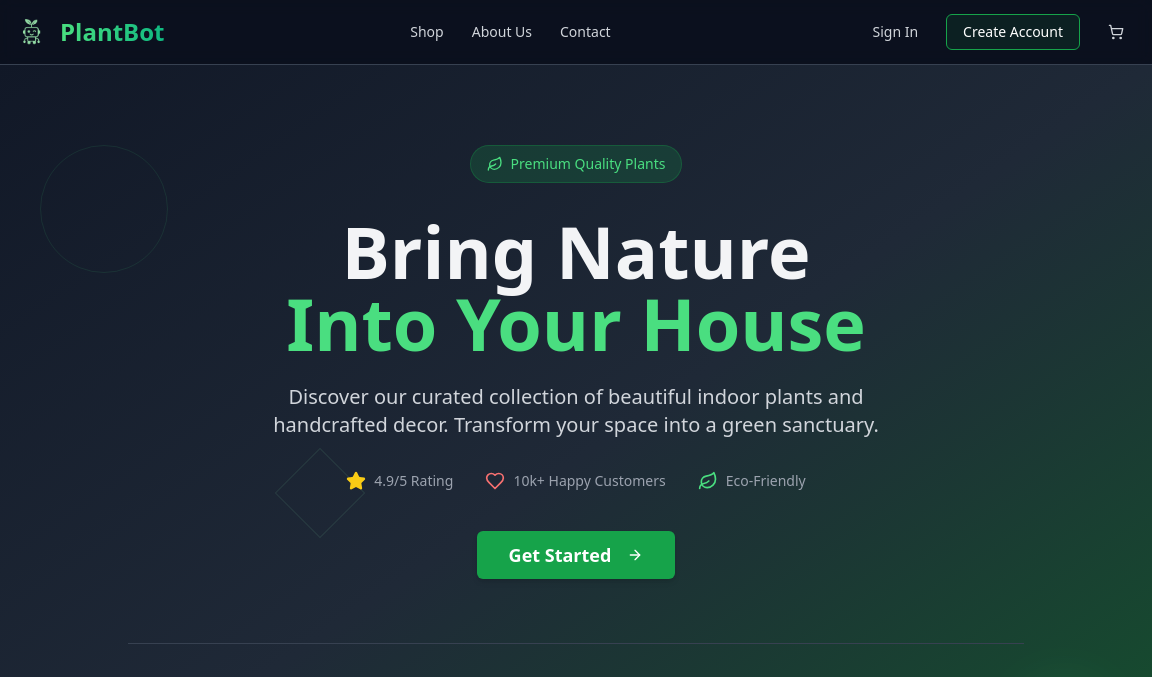
Test: PlantBot sign up Test cases › TC-25: Validate to check if error message is displayed when user enters invalid phone number during sign up
Click the button with test id "get-started-btn": coordinates (577, 555) [477,531,676,579]
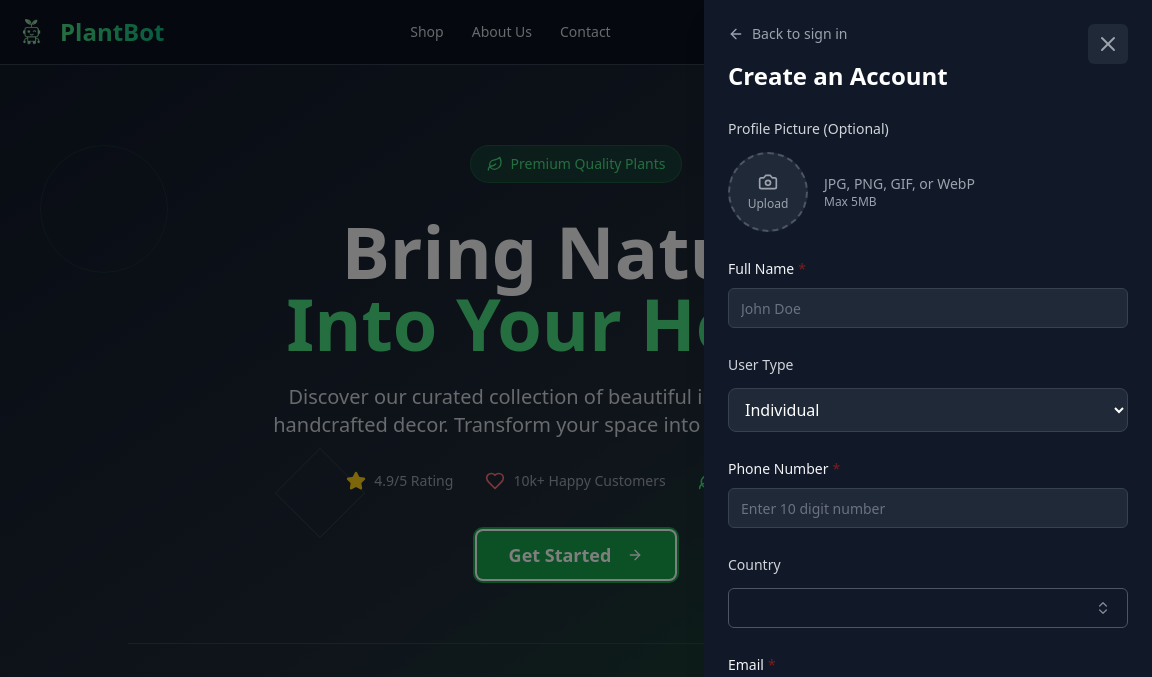
In the field named "fullName": coordinates (928, 308) [728,288,1128,328], type "John Paul"
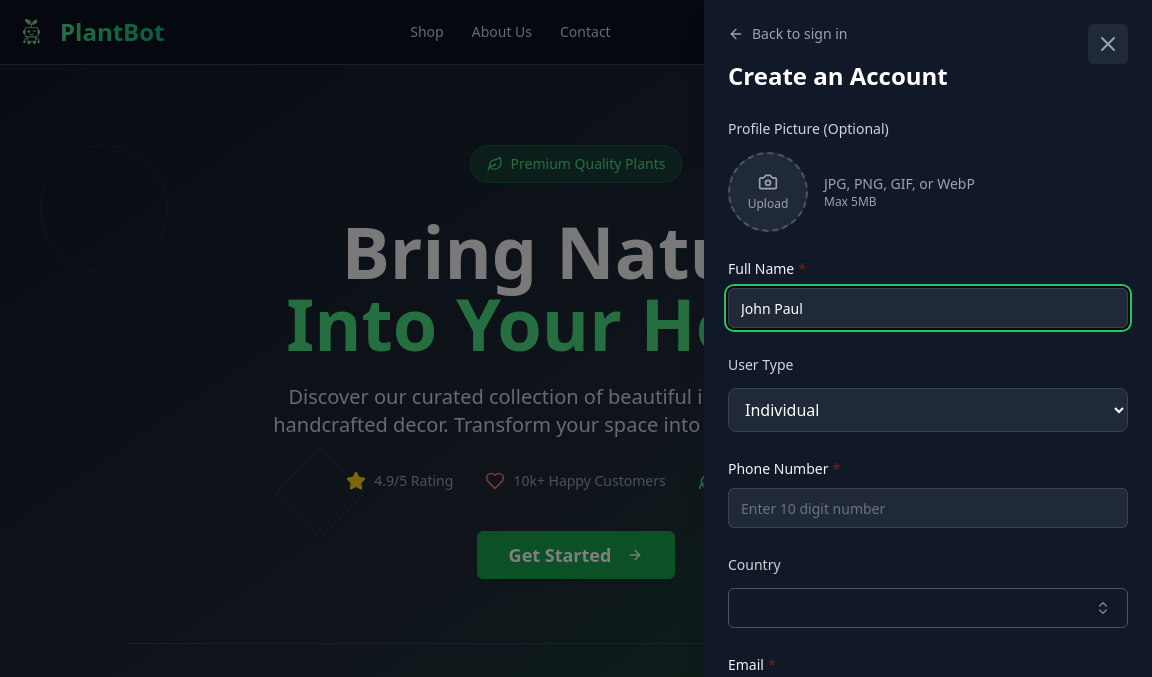
Select "Business" in the dropdown below "User Type": coordinates (928, 410) [728,388,1128,432]
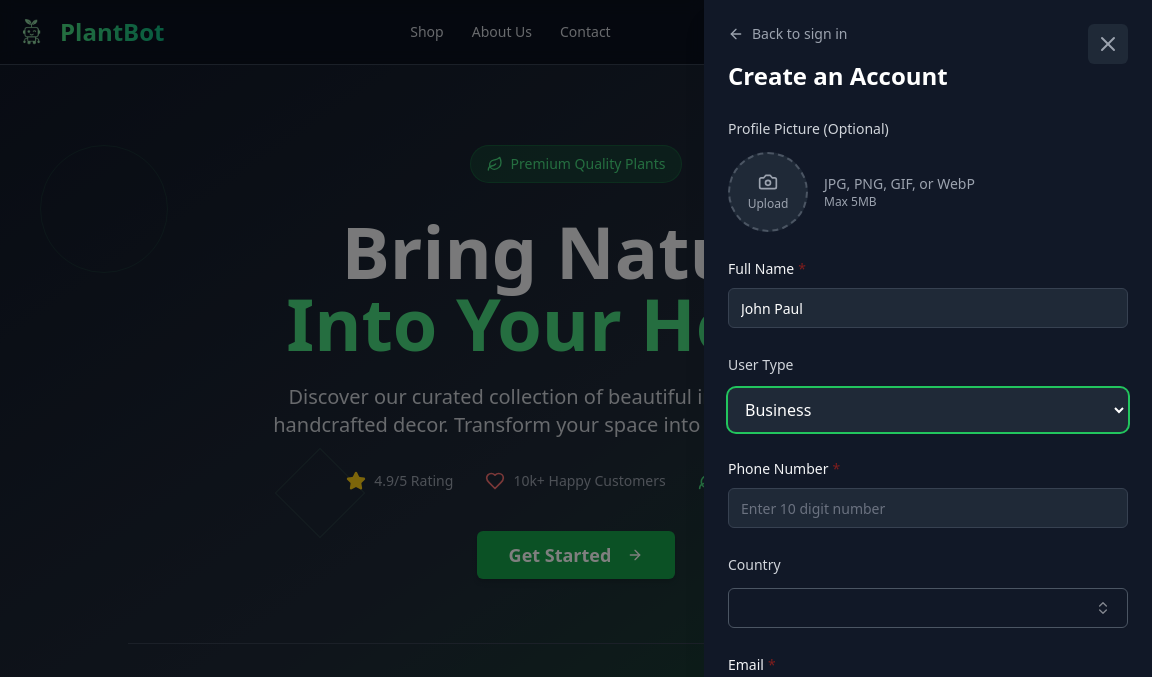
In the field named "phone": coordinates (928, 508) [728,488,1128,528], type "12345"
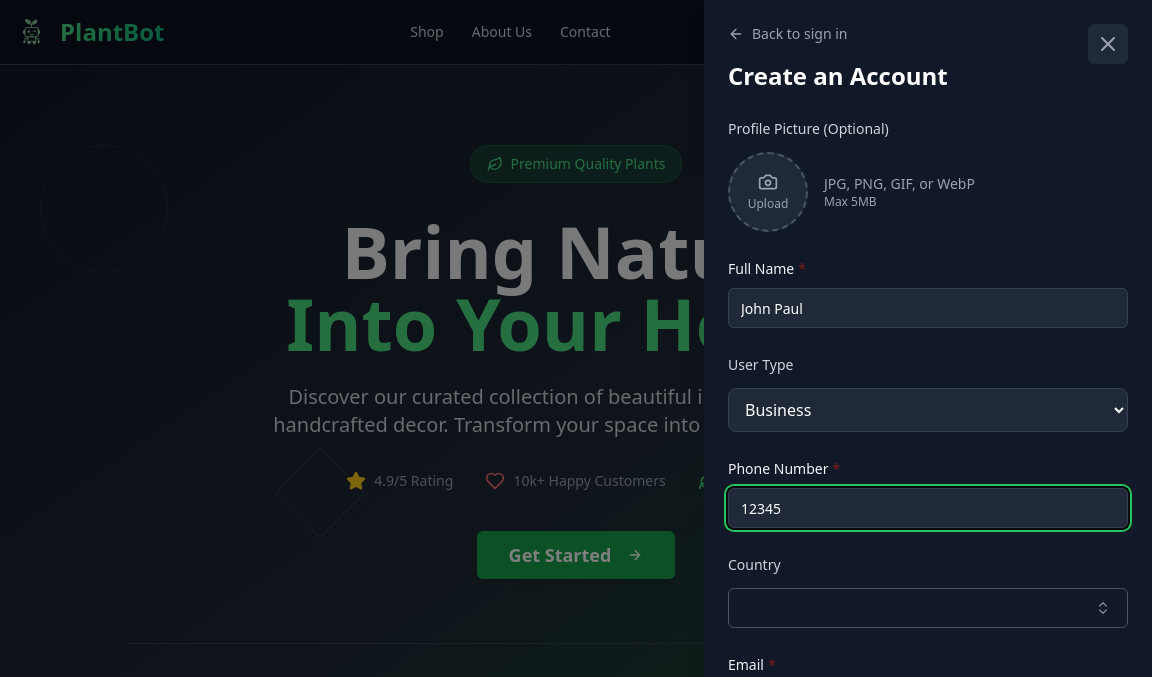
Scroll
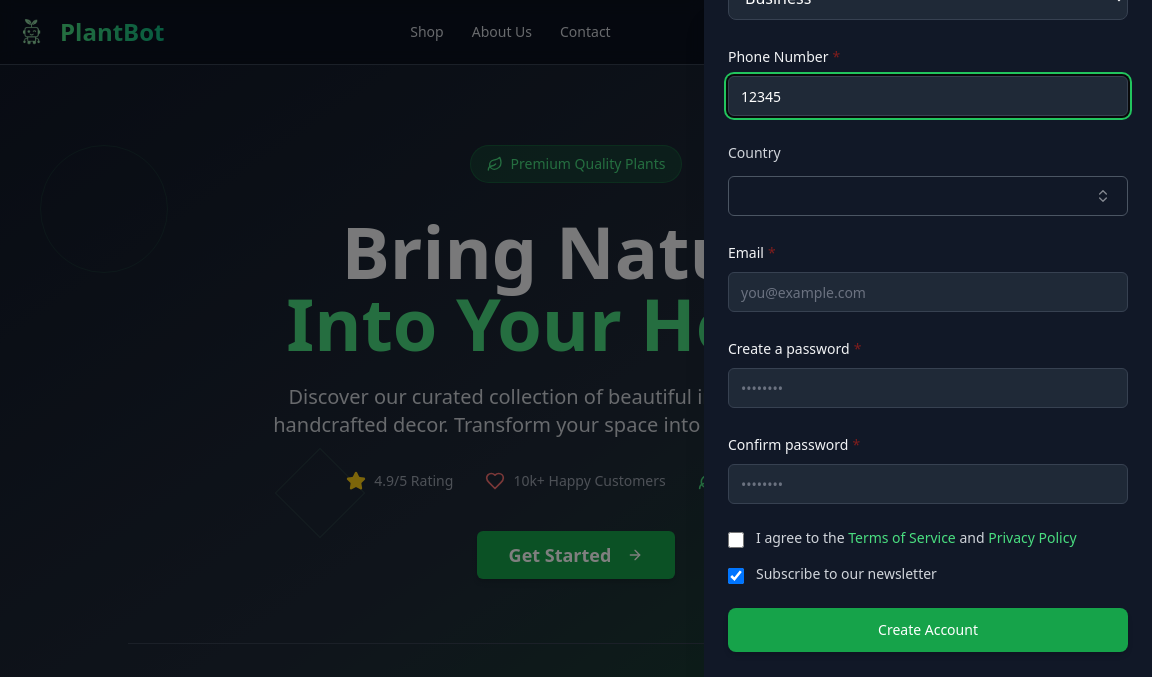
Click the button "Create Account": coordinates (928, 630) [728,608,1128,652]
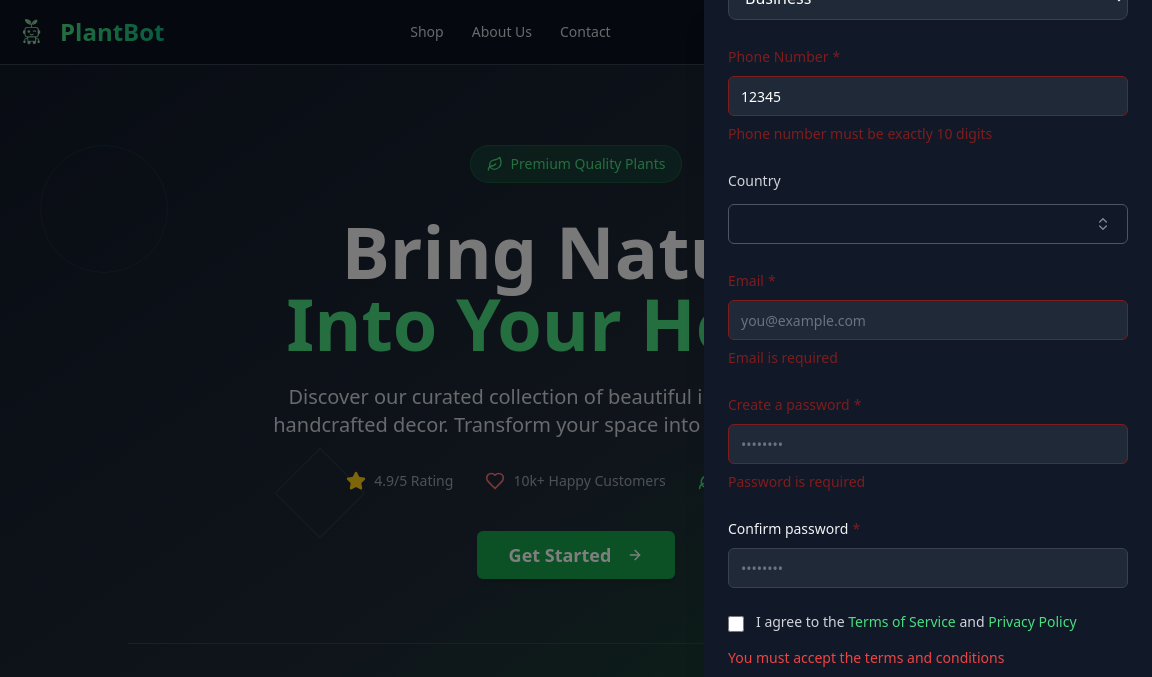
Now the text "Phone number must be exactly 10 digits" is shown, box [728,124,992,143]
